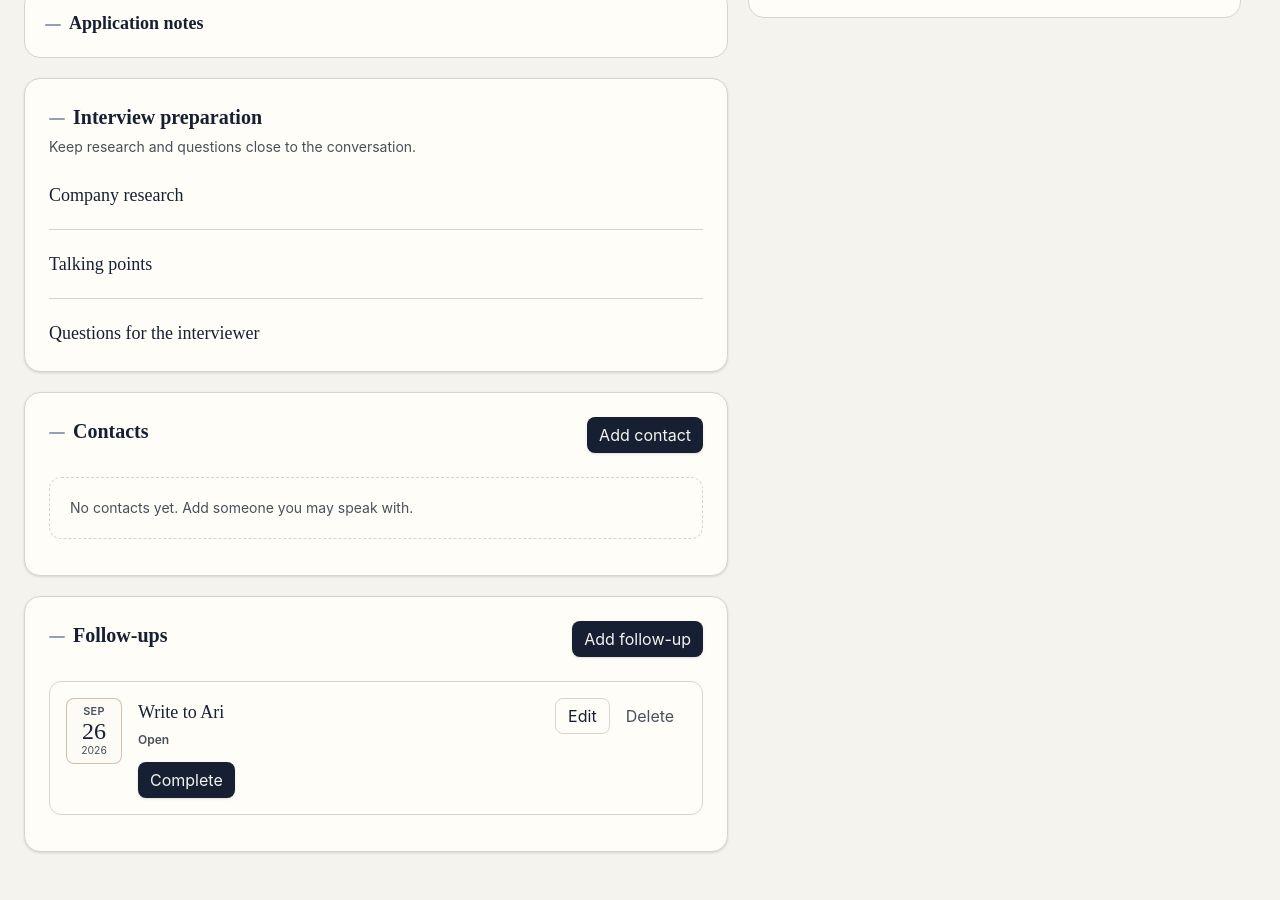
Test case: follow-ups confirm deletion and report failures
(page scrolled)
Step 1. Click the button with aria-label "Delete Write to Ari" → (650, 716), box x1=614 y1=698 x2=686 y2=734
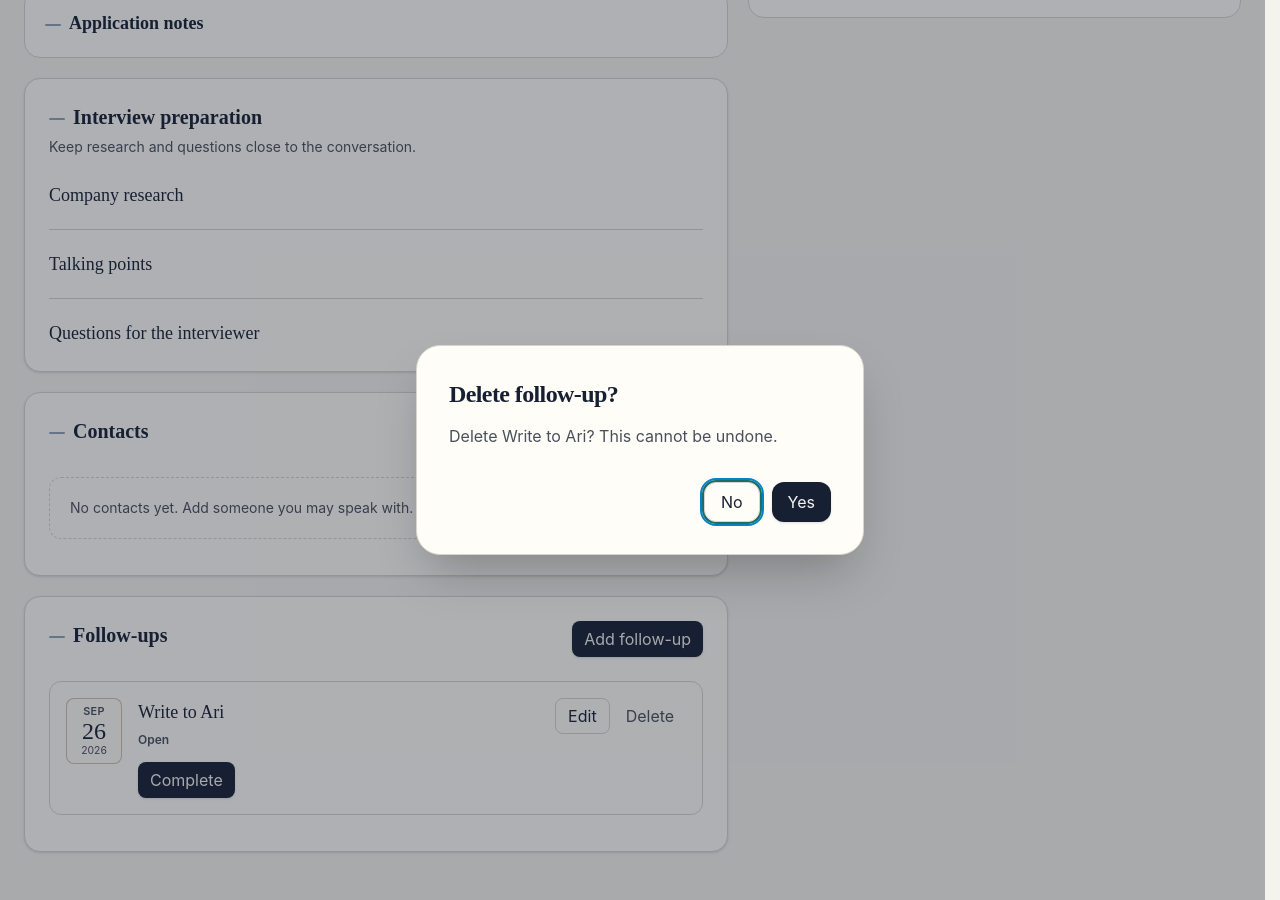
Result: the dialog is shown at x1=416 y1=345 x2=864 y2=555
Step 2. Click the button "Yes" → (801, 502), box x1=772 y1=482 x2=831 y2=522
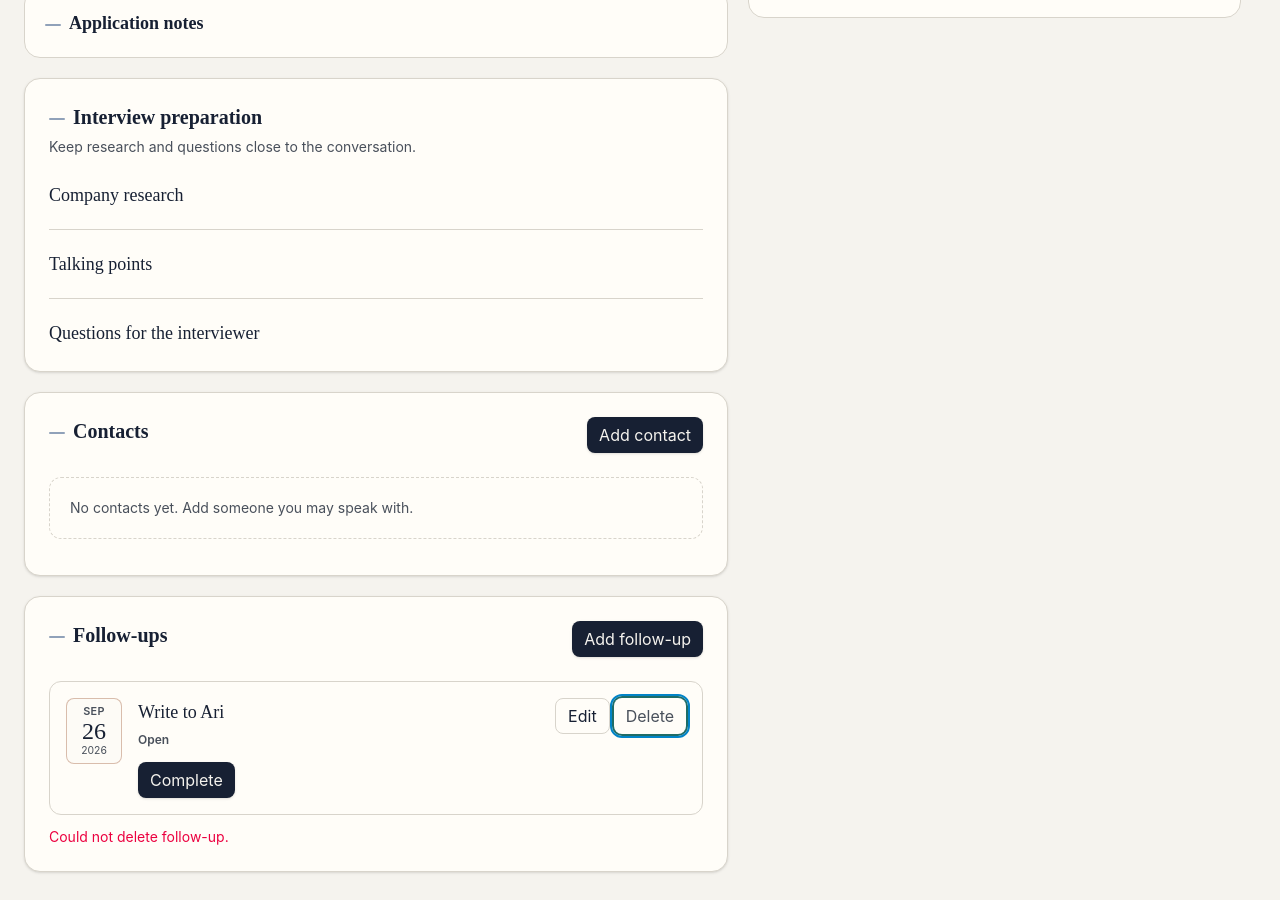
Result: the message reads "Could not delete follow-up." at x1=49 y1=828 x2=229 y2=845
